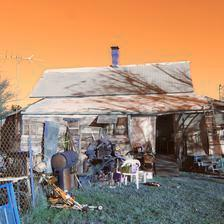Destroyed_Building: (0, 42, 224, 185)
